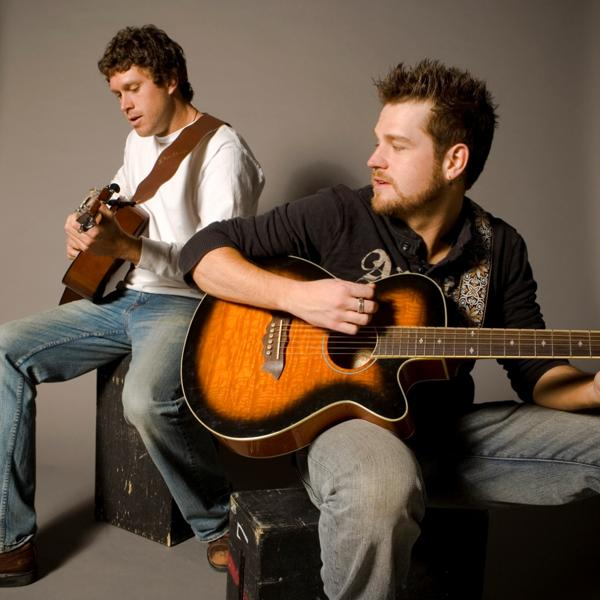person: (176, 61, 599, 598)
